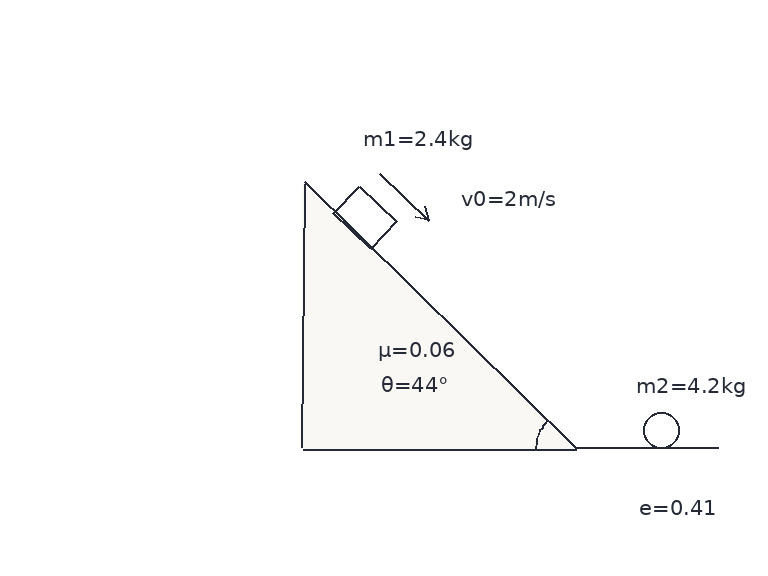ball: (641, 410, 681, 450)
block: (331, 184, 397, 251)
ramp: (301, 182, 578, 450)
